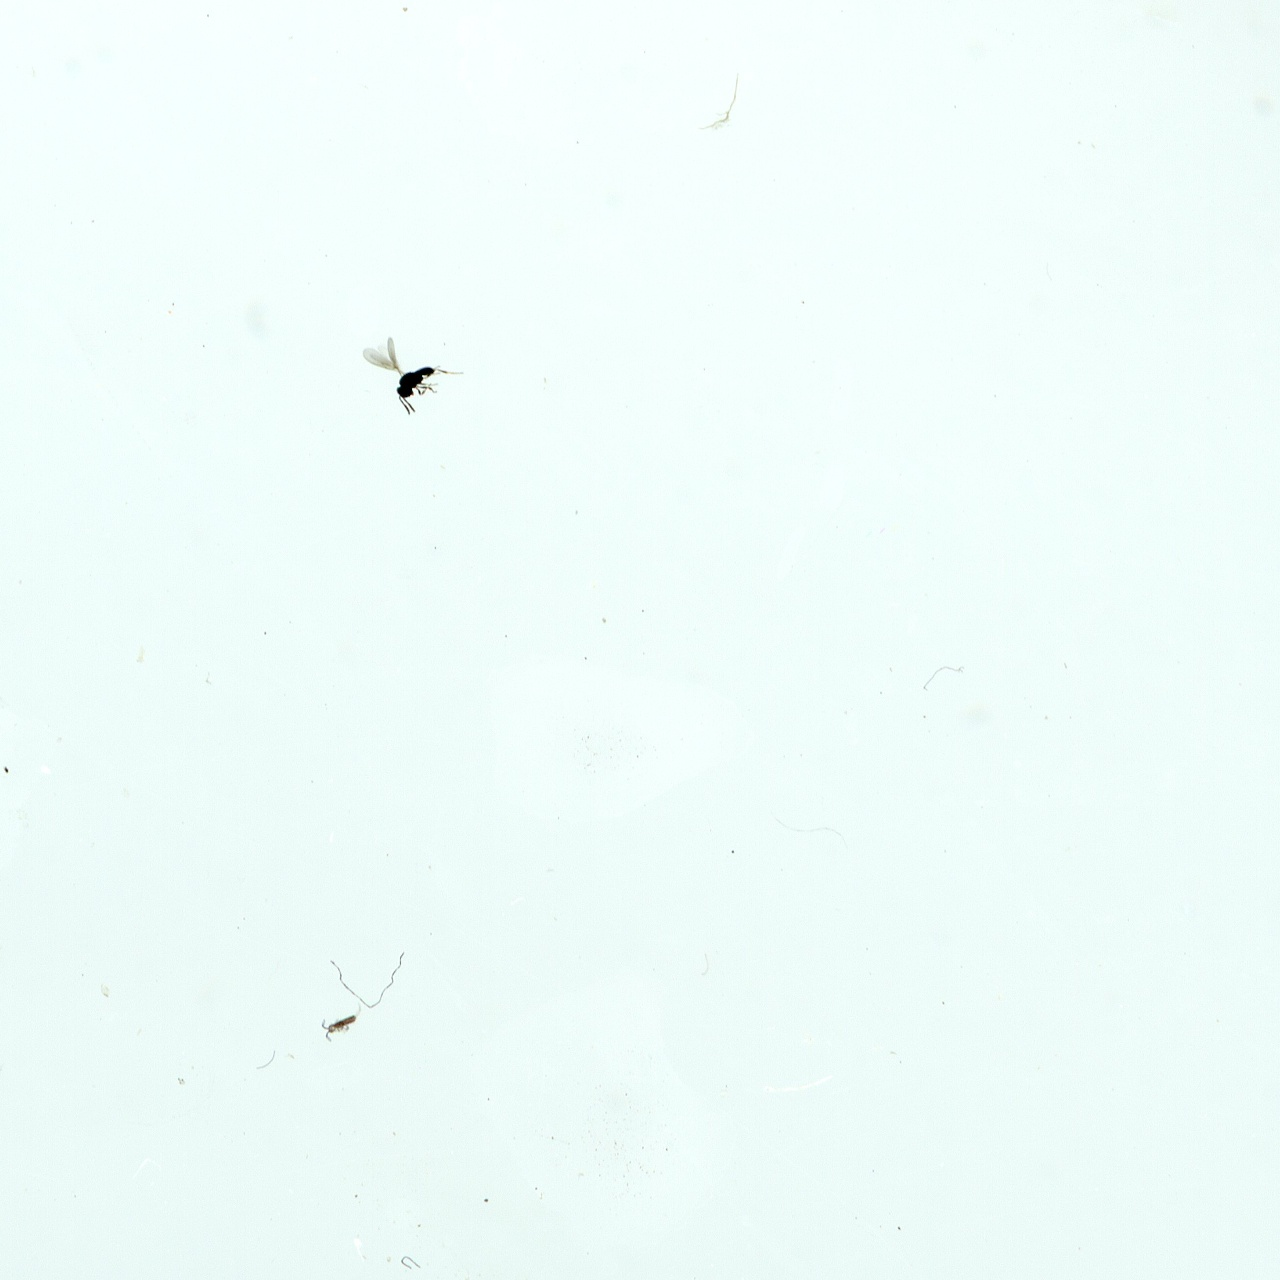arthropod: (358, 334, 463, 410), (315, 1008, 361, 1041)
